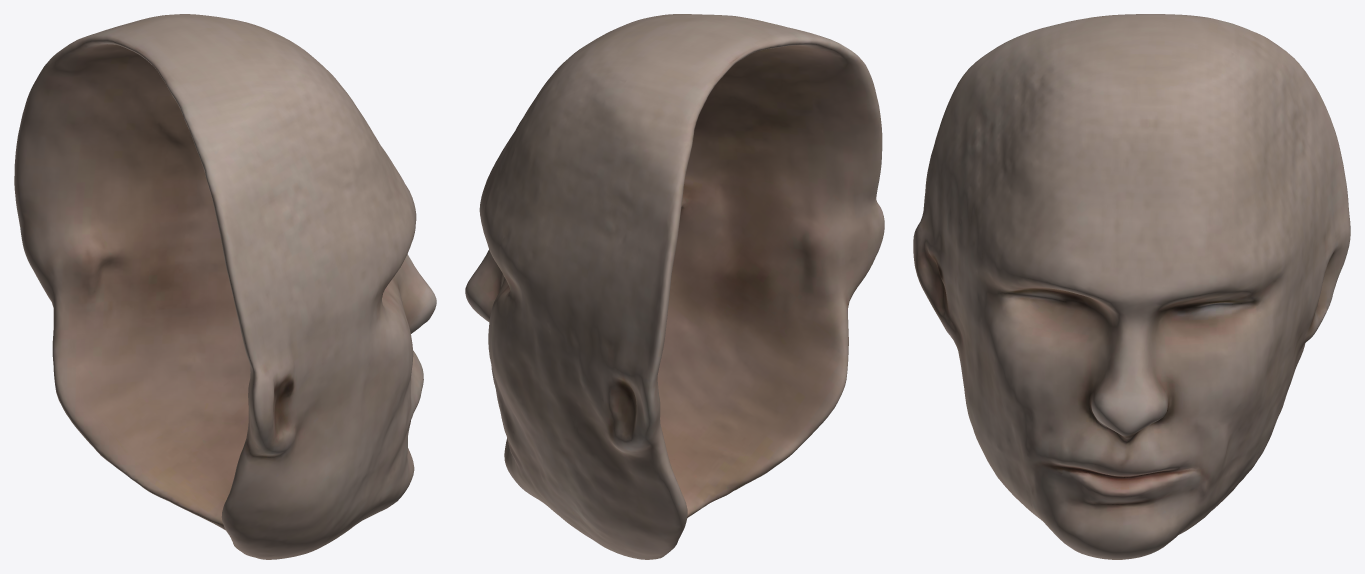
The model's file is 24ae6d2cb761_human_face_sculptur.fbx.
3 renders of one model, left to right at view 1: azimuth 30°, elevation 25°; view 2: azimuth 150°, elevation 25°; view 3: azimuth 270°, elevation 25°, orthographic. The views are drawn at different scales.
Visible parts, largest first — view 1: high_poly; view 2: high_poly; view 3: high_poly.
Part boxes in pixels (bbox=[...]): high_poly: bbox=[14, 14, 436, 559]; high_poly: bbox=[465, 14, 884, 559]; high_poly: bbox=[913, 14, 1350, 559].
Bounding box in the file's own units: 61.67 × 100 × 82.5.
